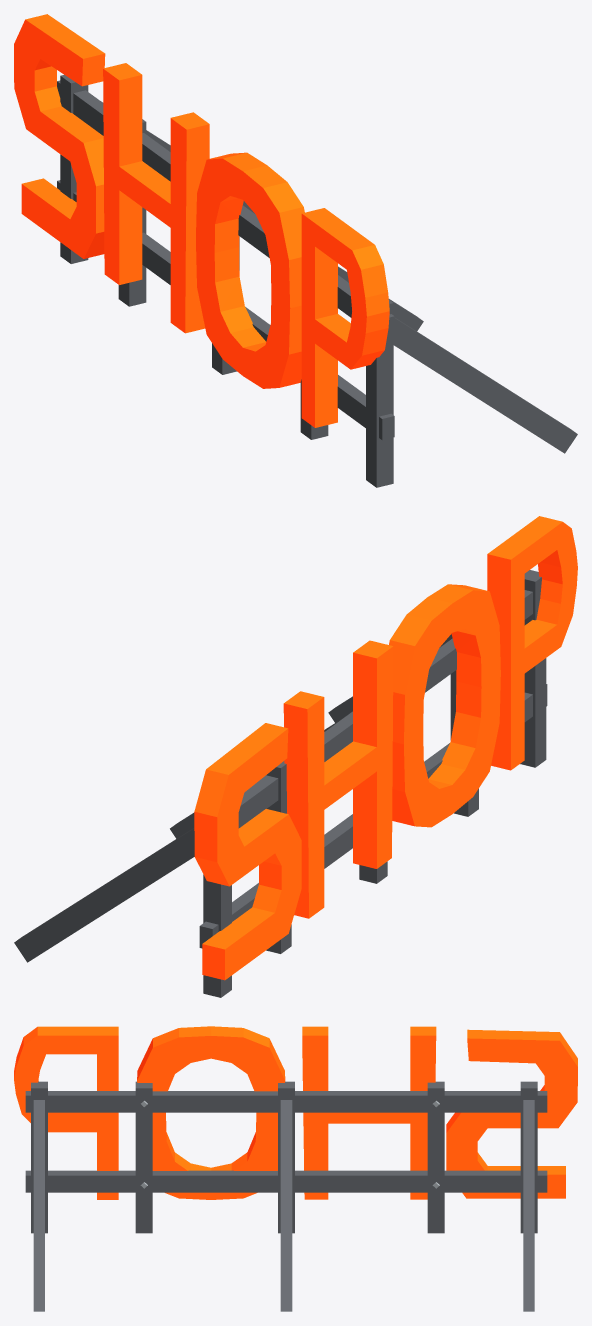
The model's file is SM_Hoarding_03.fbx.
3 views of the same model, one above another, from view 1: azimuth 30°, elevation 25°; view 2: azimuth 150°, elevation 25°; view 3: azimuth 270°, elevation 25° (orthographic). The views are drawn at different scales.
Visible parts, largest first — view 1: SM_Hoarding_03_LOD0; view 2: SM_Hoarding_03_LOD0; view 3: SM_Hoarding_03_LOD0.
Part boxes in pixels (x1,y1,x2,y2): SM_Hoarding_03_LOD0: [14, 14, 577, 487]; SM_Hoarding_03_LOD0: [14, 516, 577, 997]; SM_Hoarding_03_LOD0: [14, 1026, 577, 1311].
Bounding box in the file's own units: 299 × 811 × 322.
1 material, 1 textured.
